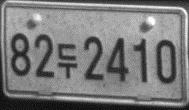0: (155, 39, 177, 84)
1: (132, 38, 147, 84)
2: (83, 35, 105, 80), (34, 34, 55, 78)
4: (105, 37, 129, 83)
8: (10, 32, 31, 77)
두: (56, 42, 78, 80)
